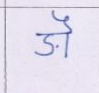ai_matra: (51, 11, 74, 31)
